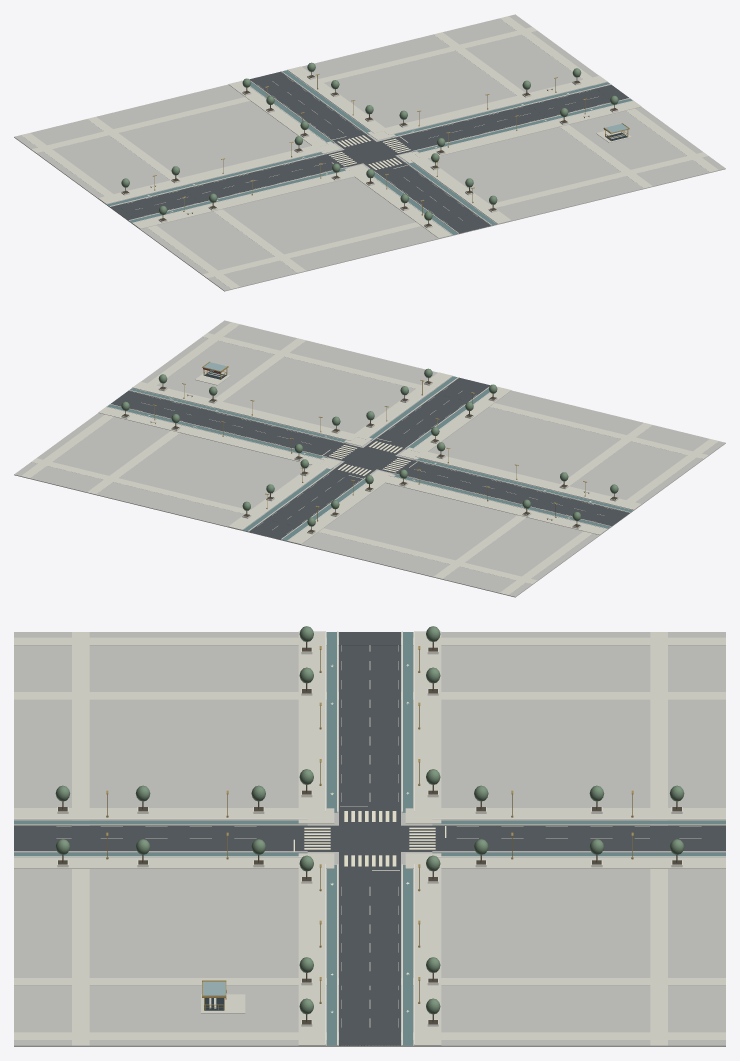
Rendered from street-block.glb.
The picture shows the model from 3 angles, top to bottom: view 1: azimuth 30°, elevation 25°; view 2: azimuth 150°, elevation 25°; view 3: azimuth 270°, elevation 25°; orthographic projection. The views are drawn at different scales.
Parts seen in each view (by area): view 1: Street_ground, Street_paving, Street_road, Street_cycle, Street_curb, Street_leaf, Street_white, Street_gold, Street_soil; view 2: Street_ground, Street_paving, Street_road, Street_cycle, Street_curb, Street_leaf, Street_white, Street_gold, Street_soil; view 3: Street_ground, Street_paving, Street_road, Street_cycle, Street_curb, Street_leaf, Street_white, Street_soil, Street_gold.
Part boxes in pixels (bbox=[...]): Street_ground: bbox=[14, 14, 725, 291]; Street_paving: bbox=[21, 16, 718, 288]; Street_road: bbox=[110, 71, 628, 233]; Street_cycle: bbox=[107, 70, 632, 234]; Street_curb: bbox=[106, 69, 633, 234]; Street_leaf: bbox=[121, 62, 618, 220]; Street_white: bbox=[128, 77, 602, 223]; Street_gold: bbox=[150, 74, 629, 215]; Street_soil: bbox=[122, 75, 617, 226]; Street_ground: bbox=[14, 320, 725, 597]; Street_paving: bbox=[21, 322, 718, 594]; Street_road: bbox=[111, 377, 629, 539]; Street_cycle: bbox=[107, 376, 632, 540]; Street_curb: bbox=[106, 375, 633, 540]; Street_leaf: bbox=[121, 368, 618, 526]; Street_white: bbox=[137, 387, 611, 533]; Street_gold: bbox=[150, 361, 589, 521]; Street_soil: bbox=[122, 381, 617, 532]; Street_ground: bbox=[14, 632, 725, 1046]; Street_paving: bbox=[14, 631, 725, 1045]; Street_road: bbox=[14, 632, 725, 1045]; Street_cycle: bbox=[14, 632, 725, 1045]; Street_curb: bbox=[14, 631, 725, 1045]; Street_leaf: bbox=[55, 626, 684, 1014]; Street_white: bbox=[56, 645, 701, 1027]; Street_soil: bbox=[58, 647, 681, 1024]; Street_gold: bbox=[106, 646, 633, 1010].
Bounding box in the file's own units: 220 × 6.74 × 160.
